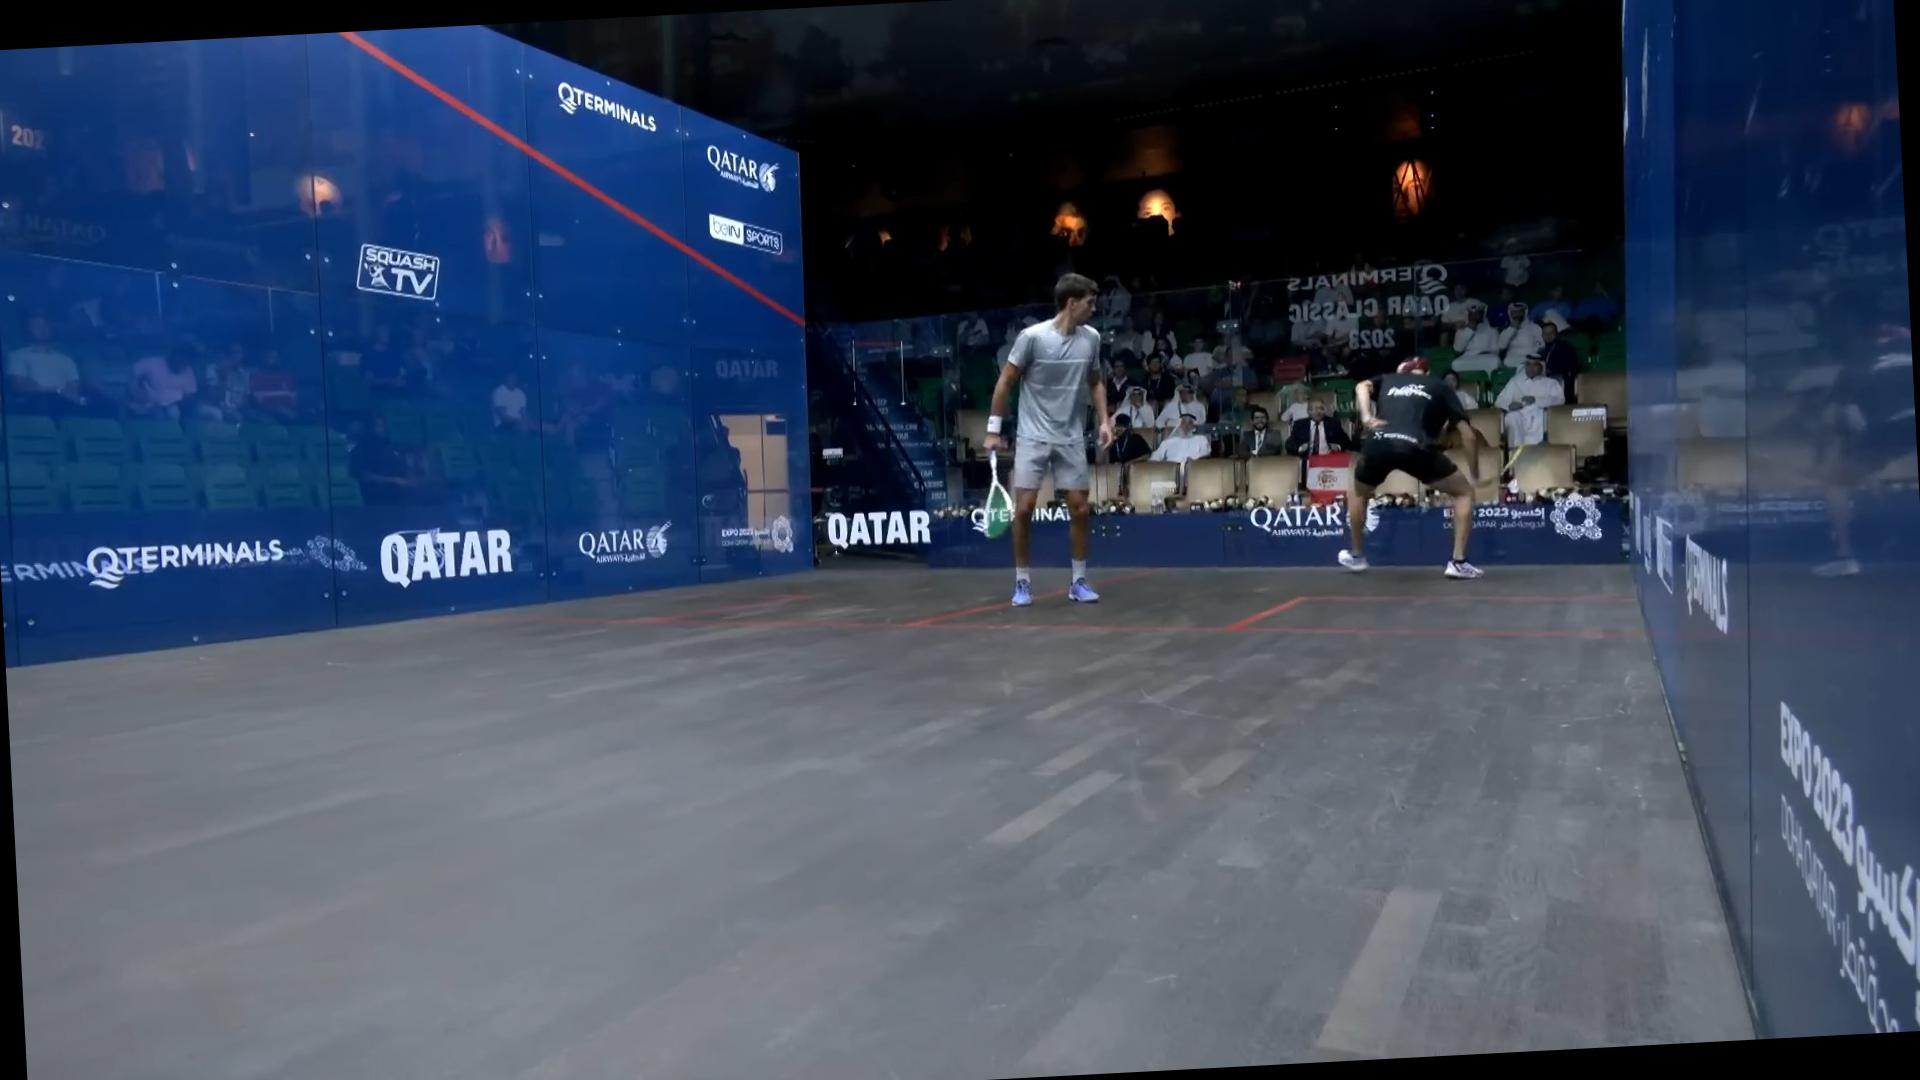Racket: (972, 446, 1014, 541)
